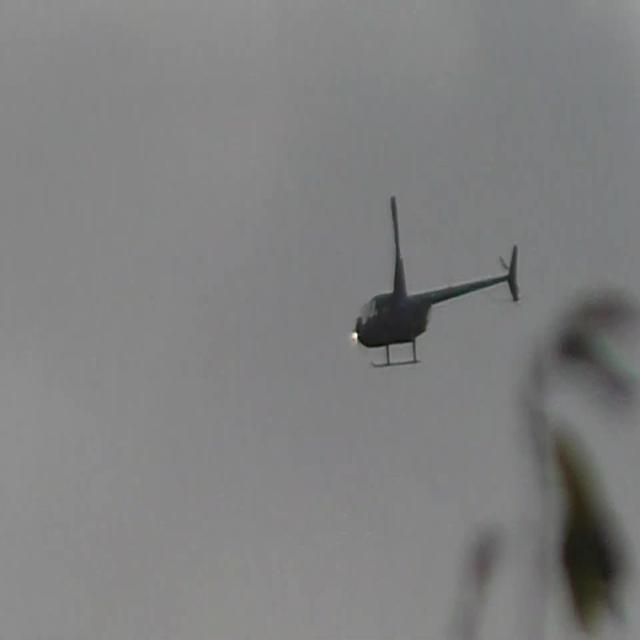CIV_HELO: (354, 242, 520, 370)
